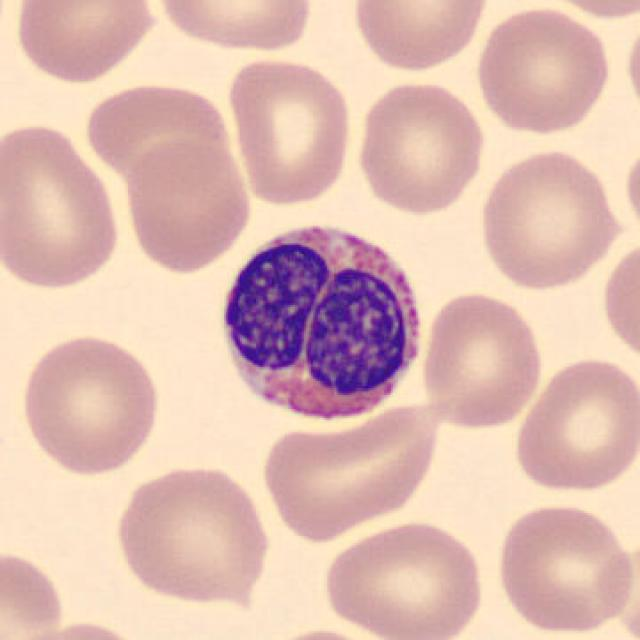Eosinophil: (212, 210, 432, 434)
RBC: (254, 404, 450, 545), (110, 460, 274, 608), (473, 144, 626, 292), (0, 118, 126, 295), (16, 330, 164, 480), (318, 516, 488, 640), (224, 53, 356, 208), (491, 499, 636, 636), (352, 77, 489, 217), (471, 3, 613, 138), (119, 136, 254, 275), (508, 353, 638, 497), (418, 287, 546, 432), (82, 78, 235, 184), (10, 0, 161, 86), (347, 0, 492, 74), (150, 0, 316, 55), (0, 545, 69, 640), (598, 233, 638, 370), (7, 617, 153, 640), (247, 624, 398, 640), (622, 7, 640, 129), (535, 0, 638, 21), (622, 136, 640, 247)
